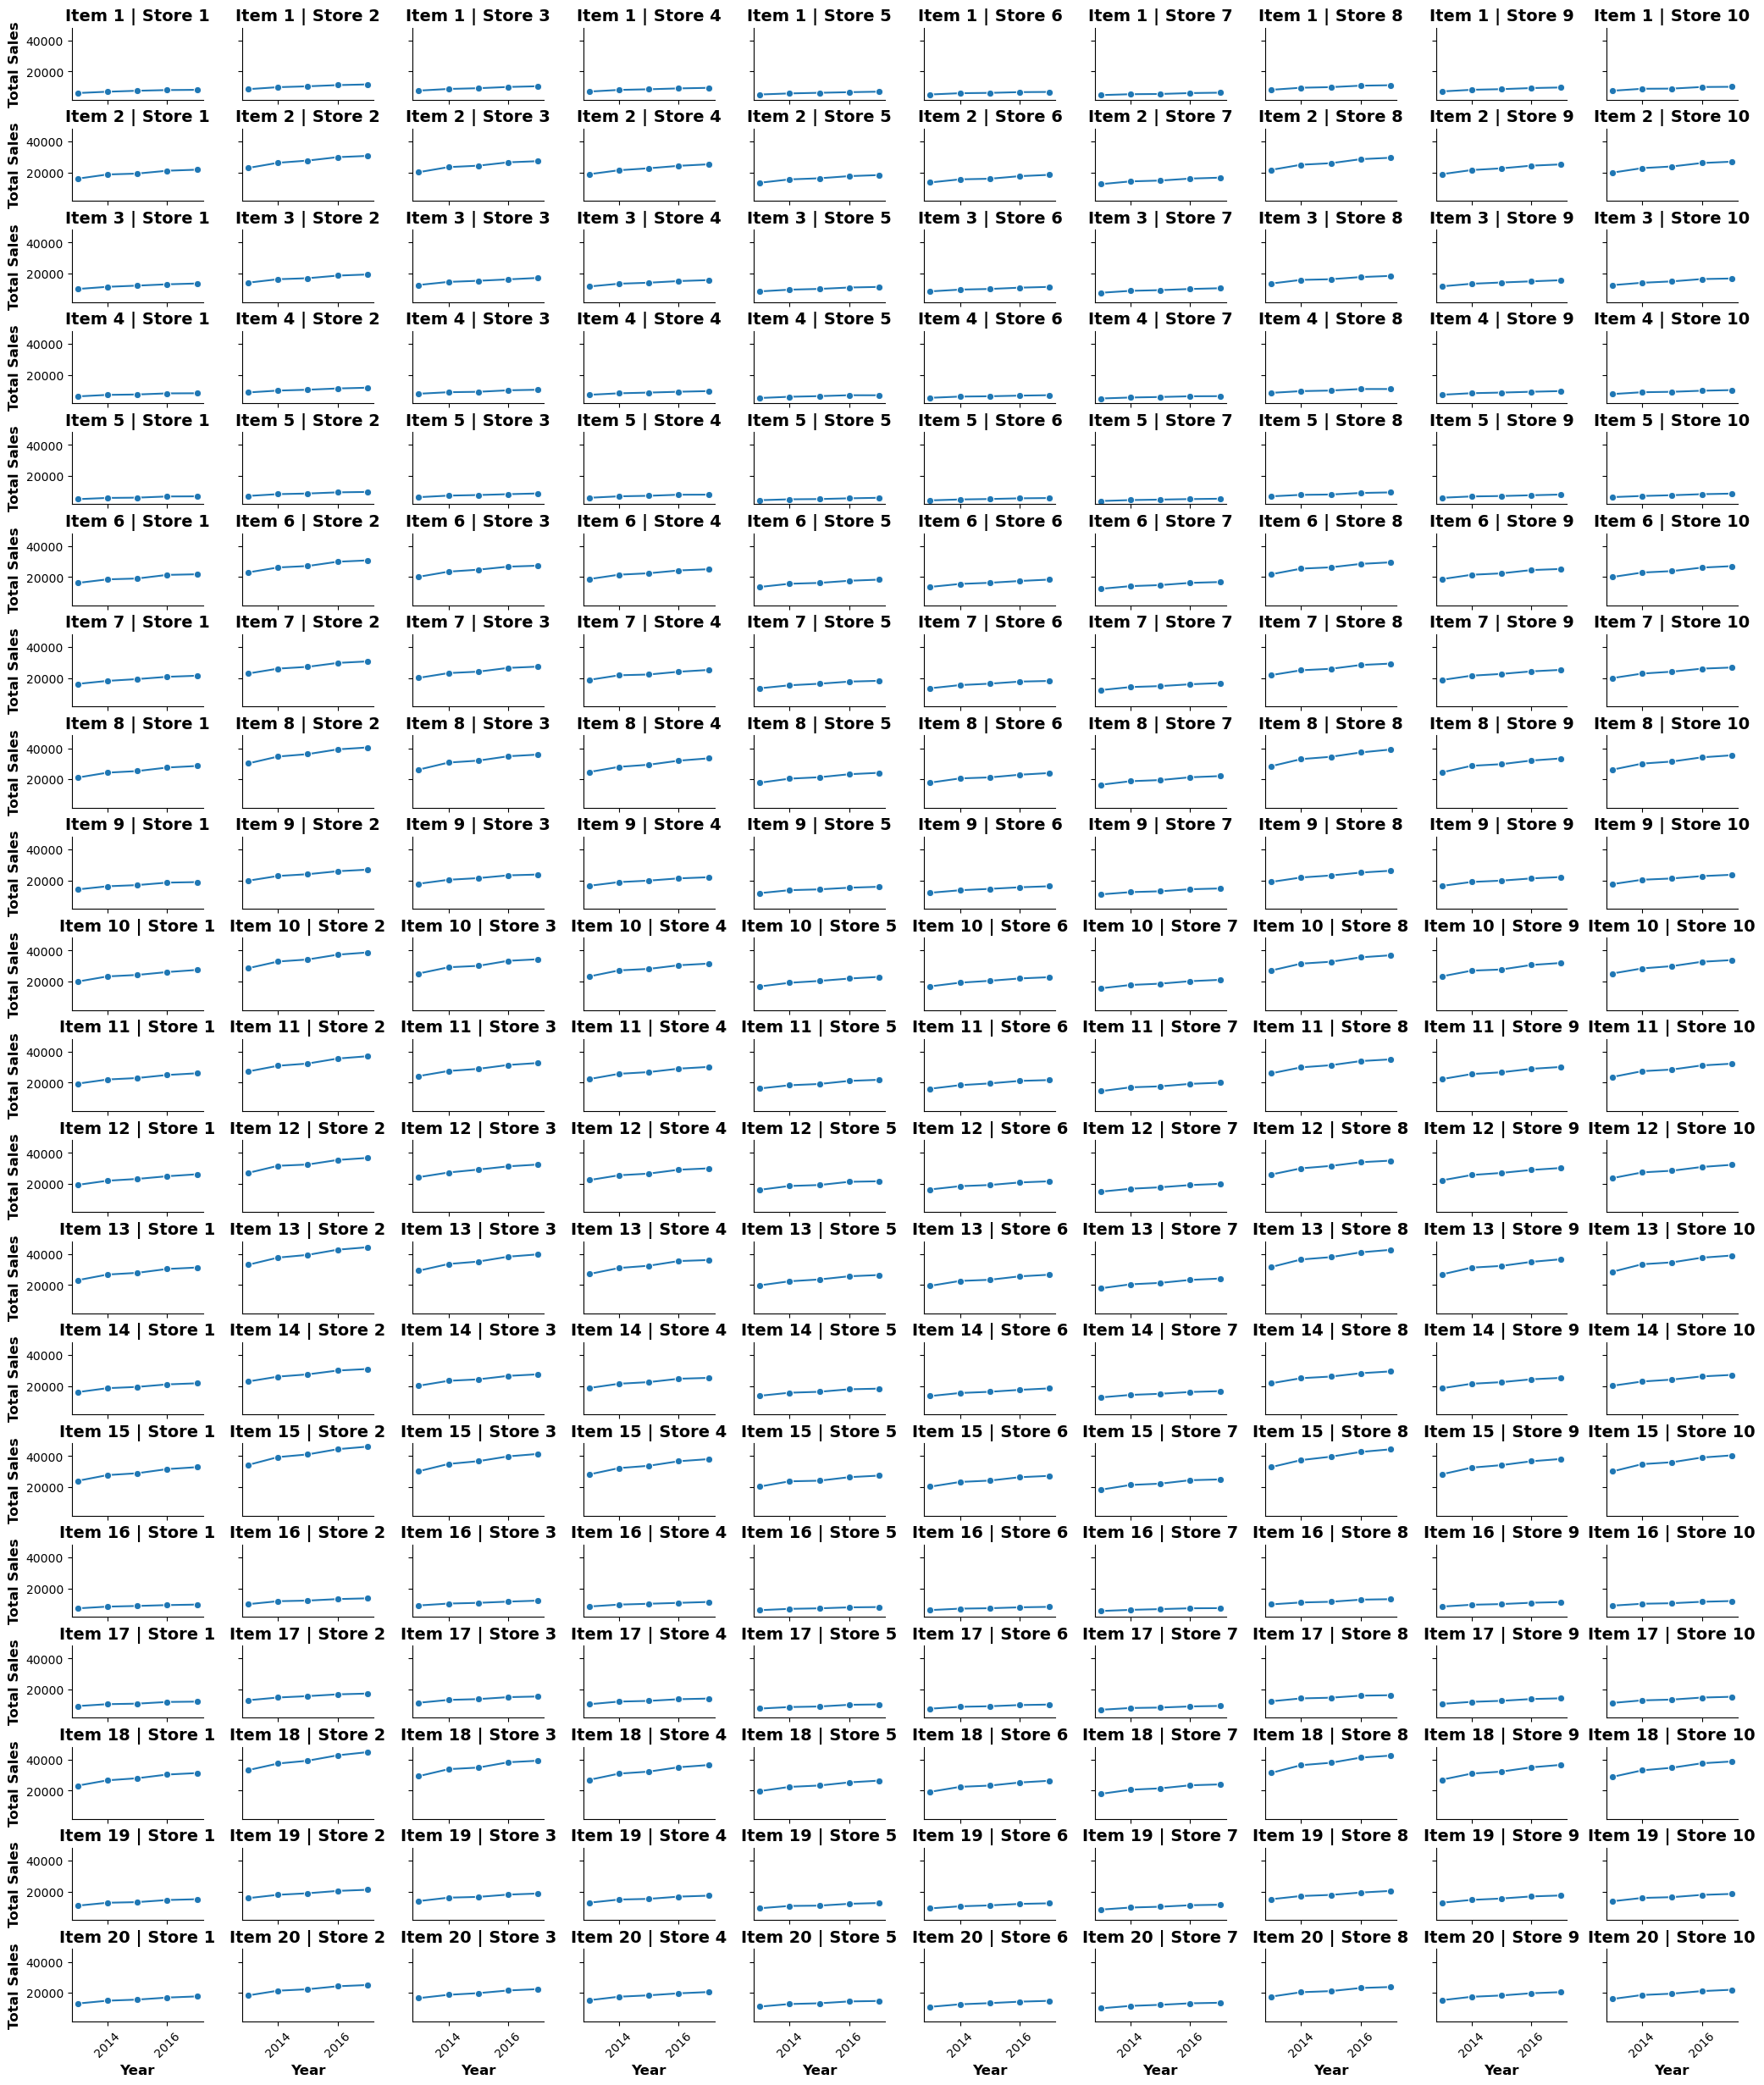

What the dashboard file says about the page in this screenshot:
{"tool":"powerbi","page":{"name":"Page 1","canvas":[1280,720],"ordinal":0},"visuals":[{"type":"lineChart","fields":{"Y":["Median(df.sales)"],"Category":["df.date.Variation.Date Hierarchy.Year","df.date.Variation.Date Hierarchy.Quarter","df.date.Variation.Date Hierarchy.Month","df.date.Variation.Date Hierarchy.Day"],"Rows":["df.item"]},"box":[25.7,0,506.3,564.9],"z":0},{"type":"pythonVisual","box":[26,570,506,150],"z":1}]}

Visuals, with their boxes on the page's 1280x720 design canvas (x1, y1, x2, y2). These are canvas units, not pixel positions in the 1764x2085 screenshot, which may show the page scaled, cropped or inside an application window:
lineChart - Median(df.sales) x df.date.Variation.Date Hierarchy.Year: bbox(26, 0, 532, 565)
pythonVisual: bbox(26, 570, 532, 720)
